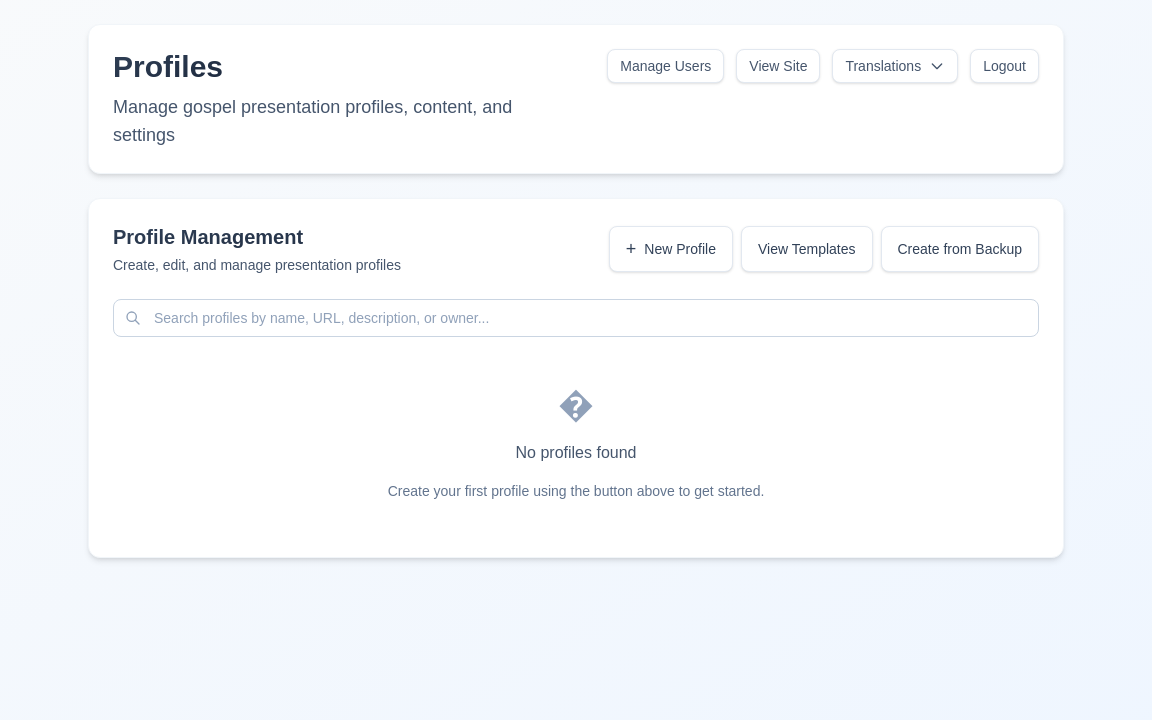
AdminPageContent internals › creates profile successfully and refreshes list
expect the heading "Profile Management" is shown: met, box x1=113 y1=223 x2=593 y2=251
Note: Open create form
Click the button "+ New Profile" at (671, 249), box x1=609 y1=226 x2=733 y2=272
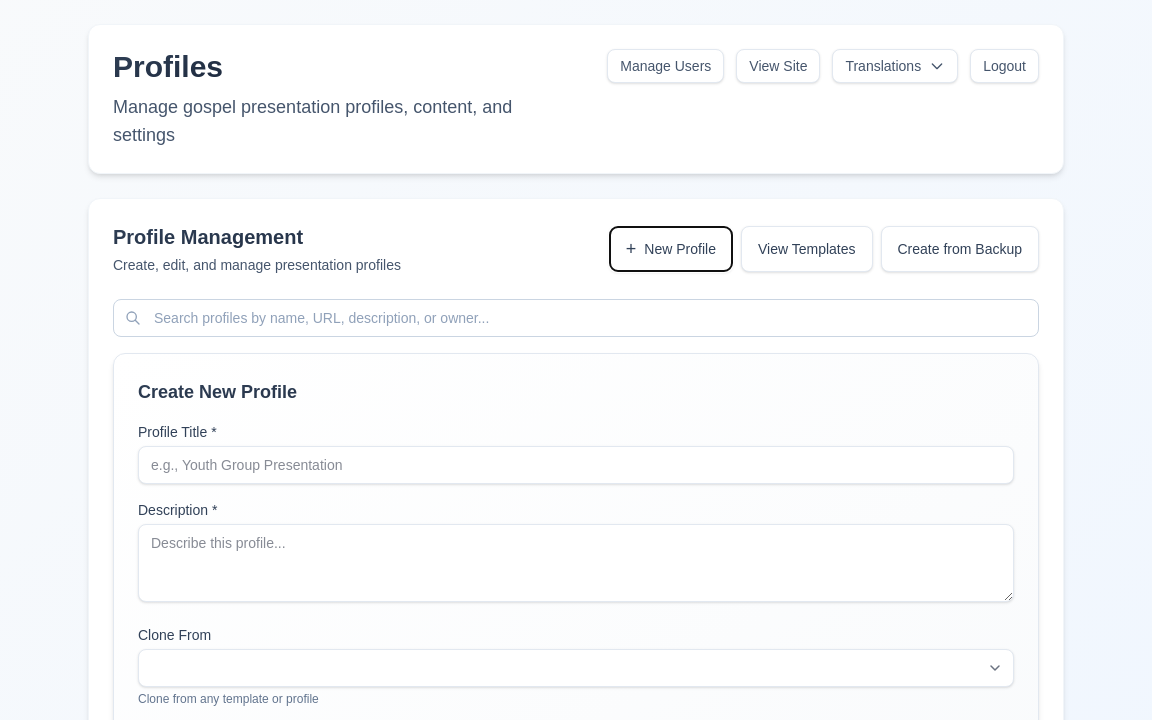
Type "Created Profile" into the field labelled "Profile Title *" at (576, 465), box x1=138 y1=446 x2=1014 y2=484
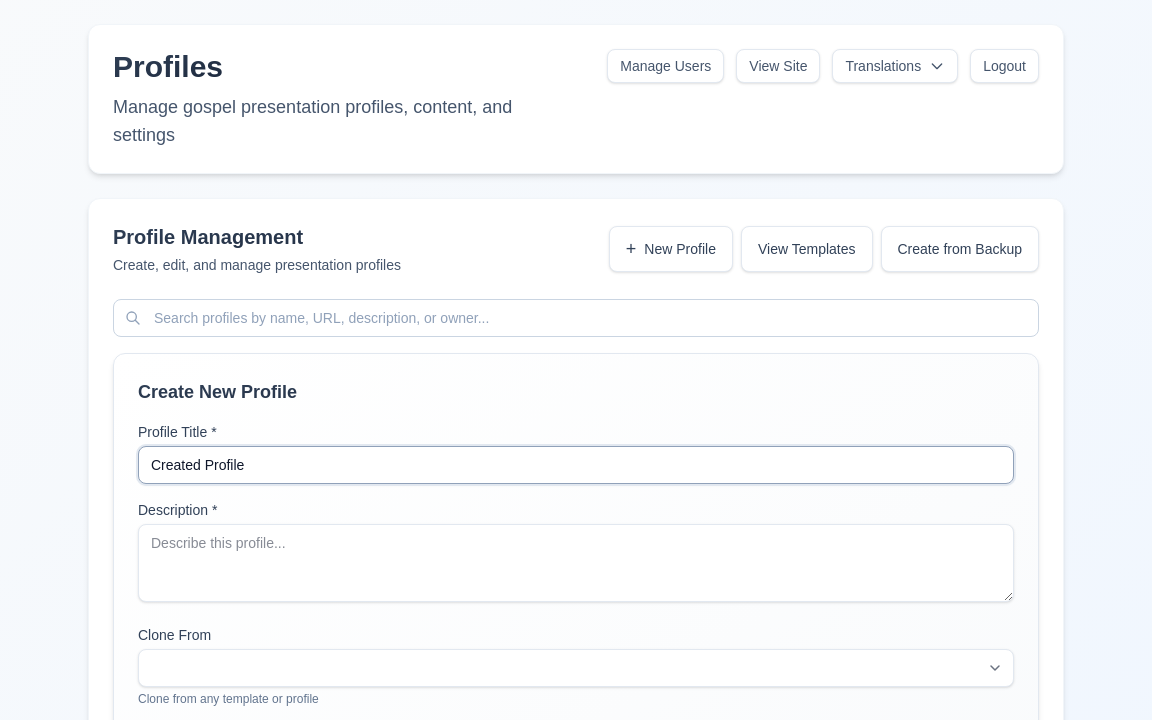
Type "desc" into the text box labelled "Description *" at (576, 563), box x1=138 y1=524 x2=1014 y2=602
(page scrolled)
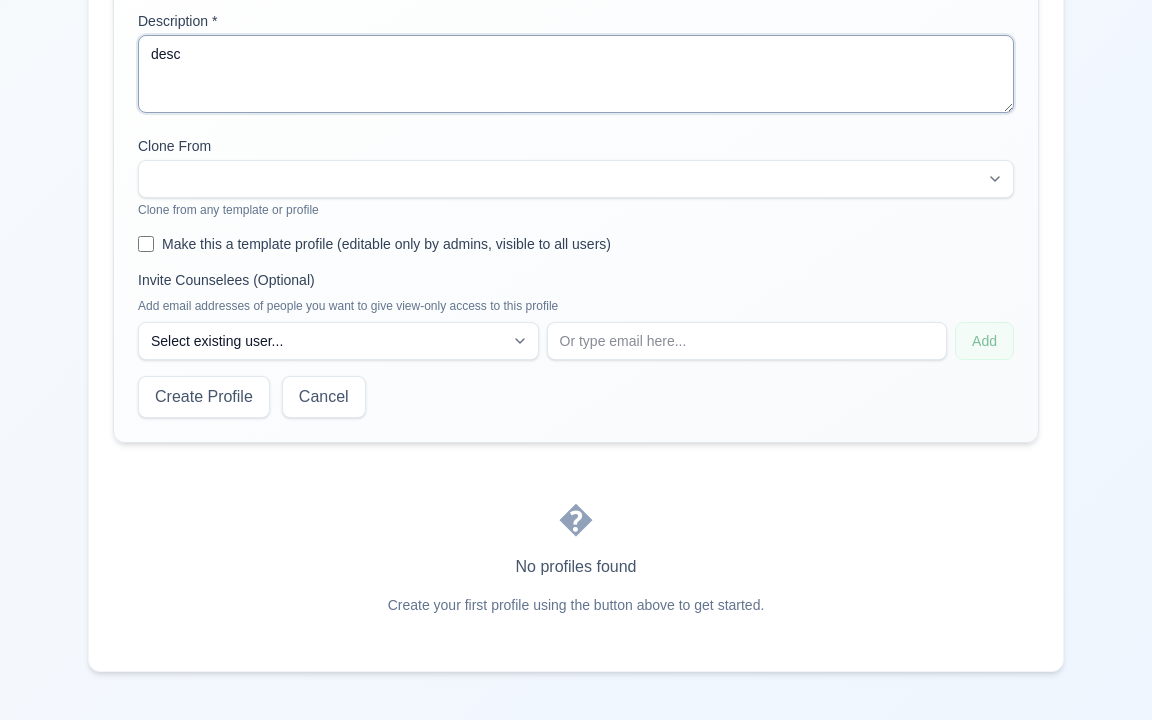
Click the button "Create Profile" at (204, 397), box x1=138 y1=376 x2=270 y2=418
(page scrolled)
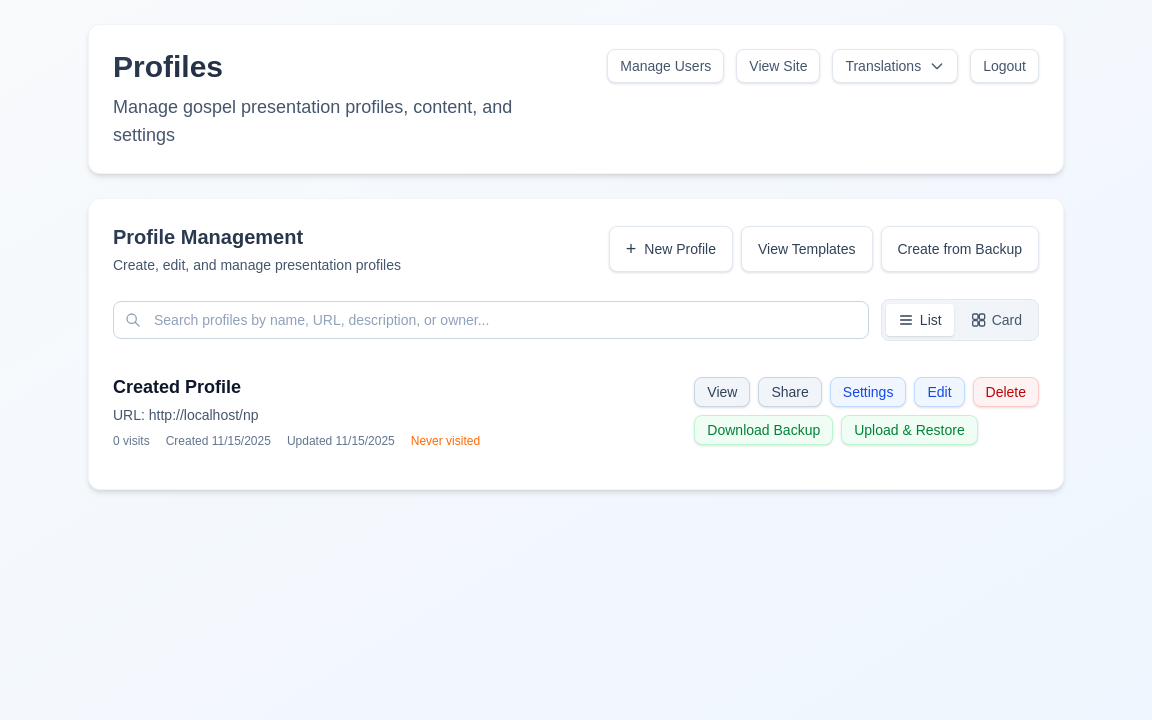
expect the heading "Created Profile" is shown: met, box x1=113 y1=373 x2=241 y2=401
